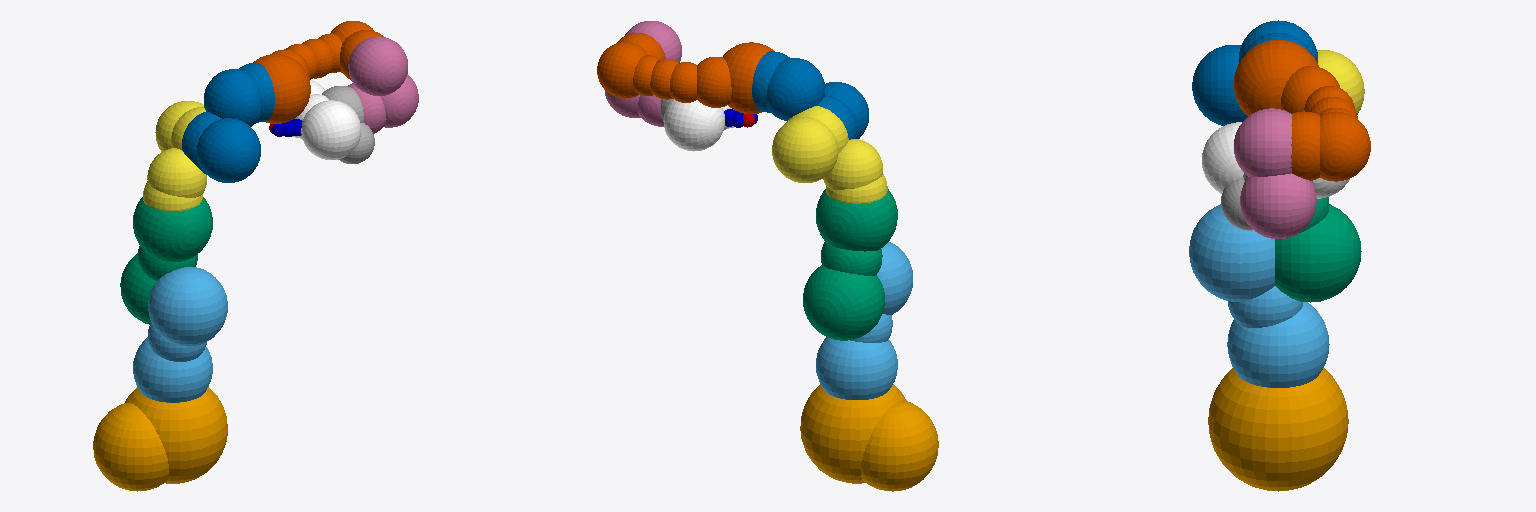
The robot description file, URDF, robot "panda":
<robot name="panda">
    <material name="Blue">
        <color rgba="0.0 0.0 0.8 1.0"/>
    </material>
    <material name="Green">
        <color rgba="0.0 0.8 0.0 1.0"/>
    </material>
    <material name="Grey">
        <color rgba="0.7 0.7 0.7 1.0"/>
    </material>
    <material name="Grey2">
        <color rgba="0.9 0.9 0.9 1.0"/>
    </material>
    <material name="Red">
        <color rgba="0.8 0.0 0.0 1.0"/>
    </material>
    <material name="White">
        <color rgba="1.0 1.0 1.0 1.0"/>
    </material>
    <material name="Black">
        <color rgba="0.1 0.1 0.1 1.0"/>
    </material>
    <material name="LightGrey">
        <color rgba="0.6 0.6 0.6 1.0"/>
    </material>
  <link name="panda_link0">
    <inertial>
      <mass value="3.06"/>
      <origin xyz="0.0 0.0 0.0" rpy="0.0 -0.0 0.0"/>
      <inertia ixx="0.3" iyy="0.3" izz="0.3" ixy="0.0" ixz="0.0" iyz="0.0"/>
    </inertial>
    <visual name="visual">
      <origin xyz="0.0 0.0 0.0" rpy="0.0 -0.0 0.0"/>
      <geometry>
        <mesh filename="package://franka/meshes/visual/link0.dae" scale="1.0 1.0 1.0"/>
      </geometry>
      <material name="">
        <color rgba="0 0 0 1"/>
      </material>
    </visual>
    <visual name="ball_0">
      <origin xyz="-0.08 0.0 0.02" rpy="0.0 -0.0 0.0"/>
      <geometry>
        <sphere radius="0.09"/>
      </geometry>
    </visual>
    <visual name="ball_1">
      <origin xyz="0.0 0.0 0.04" rpy="0.0 -0.0 0.0"/>
      <geometry>
        <sphere radius="0.11"/>
      </geometry>
    </visual>
    <collision name="collision">
      <origin xyz="0.0 0.0 0.0" rpy="0.0 -0.0 0.0"/>
      <geometry>
        <mesh filename="package://franka/meshes/collision/link0.stl" scale="1.0 1.0 1.0"/>
      </geometry>
    </collision>
  </link>
  <link name="panda_link1">
    <inertial>
      <mass value="2.34"/>
      <origin xyz="0.0 0.0 0.0" rpy="0.0 -0.0 0.0"/>
      <inertia ixx="0.3" iyy="0.3" izz="0.3" ixy="0.0" ixz="0.0" iyz="0.0"/>
    </inertial>
    <visual name="visual">
      <origin xyz="0.0 0.0 0.0" rpy="0.0 -0.0 0.0"/>
      <geometry>
        <mesh filename="package://franka/meshes/visual/link1.dae" scale="1.0 1.0 1.0"/>
      </geometry>
      <material name="">
        <color rgba="0 0 0 1"/>
      </material>
    </visual>
    <visual name="ball_0">
      <origin xyz="0.0 -0.06 0.0" rpy="0.0 -0.0 0.0"/>
      <geometry>
        <sphere radius="0.08"/>
      </geometry>
    </visual>
    <visual name="ball_1">
      <origin xyz="0.0 -0.02 -0.08" rpy="0.0 -0.0 0.0"/>
      <geometry>
        <sphere radius="0.06"/>
      </geometry>
    </visual>
    <visual name="ball_2">
      <origin xyz="0.0 0.0 -0.16" rpy="0.0 -0.0 0.0"/>
      <geometry>
        <sphere radius="0.08"/>
      </geometry>
    </visual>
    <collision name="collision">
      <origin xyz="0.0 0.0 0.0" rpy="0.0 -0.0 0.0"/>
      <geometry>
        <mesh filename="package://franka/meshes/collision/link1.stl" scale="1.0 1.0 1.0"/>
      </geometry>
    </collision>
  </link>
  <link name="panda_link2">
    <inertial>
      <mass value="2.36"/>
      <origin xyz="0.0 0.0 0.0" rpy="0.0 -0.0 0.0"/>
      <inertia ixx="0.3" iyy="0.3" izz="0.3" ixy="0.0" ixz="0.0" iyz="0.0"/>
    </inertial>
    <visual name="visual">
      <origin xyz="0.0 0.0 0.0" rpy="0.0 -0.0 0.0"/>
      <geometry>
        <mesh filename="package://franka/meshes/visual/link2.dae" scale="1.0 1.0 1.0"/>
      </geometry>
      <material name="">
        <color rgba="0 0 0 1"/>
      </material>
    </visual>
    <visual name="ball_0">
      <origin xyz="0.0 0.0 0.05" rpy="0.0 -0.0 0.0"/>
      <geometry>
        <sphere radius="0.08"/>
      </geometry>
    </visual>
    <visual name="ball_1">
      <origin xyz="0.0 -0.08 0.02" rpy="0.0 -0.0 0.0"/>
      <geometry>
        <sphere radius="0.06"/>
      </geometry>
    </visual>
    <visual name="ball_2">
      <origin xyz="0.0 -0.16 0.0" rpy="0.0 -0.0 0.0"/>
      <geometry>
        <sphere radius="0.08"/>
      </geometry>
    </visual>
    <collision name="collision">
      <origin xyz="0.0 0.0 0.0" rpy="0.0 -0.0 0.0"/>
      <geometry>
        <mesh filename="package://franka/meshes/collision/link2.stl" scale="1.0 1.0 1.0"/>
      </geometry>
    </collision>
  </link>
  <link name="panda_link3">
    <inertial>
      <mass value="2.38"/>
      <origin xyz="0.0 0.0 0.0" rpy="0.0 -0.0 0.0"/>
      <inertia ixx="0.3" iyy="0.3" izz="0.3" ixy="0.0" ixz="0.0" iyz="0.0"/>
    </inertial>
    <visual name="visual">
      <origin xyz="0.0 0.0 0.0" rpy="0.0 -0.0 0.0"/>
      <geometry>
        <mesh filename="package://franka/meshes/visual/link3.dae" scale="1.0 1.0 1.0"/>
      </geometry>
      <material name="">
        <color rgba="0 0 0 1"/>
      </material>
    </visual>
    <visual name="ball_0">
      <origin xyz="0.0 0.0 -0.1" rpy="0.0 -0.0 0.0"/>
      <geometry>
        <sphere radius="0.06"/>
      </geometry>
    </visual>
    <visual name="ball_1">
      <origin xyz="0.01 0.0 -0.06" rpy="0.0 -0.0 0.0"/>
      <geometry>
        <sphere radius="0.06"/>
      </geometry>
    </visual>
    <visual name="ball_2">
      <origin xyz="0.08 0.02 0.0" rpy="0.0 -0.0 0.0"/>
      <geometry>
        <sphere radius="0.065"/>
      </geometry>
    </visual>
    <visual name="ball_3">
      <origin xyz="0.075 0.07 -0.005" rpy="0.0 -0.0 0.0"/>
      <geometry>
        <sphere radius="0.065"/>
      </geometry>
    </visual>
    <collision name="collision">
      <origin xyz="0.0 0.0 0.0" rpy="0.0 -0.0 0.0"/>
      <geometry>
        <mesh filename="package://franka/meshes/collision/link3.stl" scale="1.0 1.0 1.0"/>
      </geometry>
    </collision>
  </link>
  <link name="panda_link4">
    <inertial>
      <mass value="2.43"/>
      <origin xyz="0.0 0.0 0.0" rpy="0.0 -0.0 0.0"/>
      <inertia ixx="0.3" iyy="0.3" izz="0.3" ixy="0.0" ixz="0.0" iyz="0.0"/>
    </inertial>
    <visual name="visual">
      <origin xyz="0.0 0.0 0.0" rpy="0.0 -0.0 0.0"/>
      <geometry>
        <mesh filename="package://franka/meshes/visual/link4.dae" scale="1.0 1.0 1.0"/>
      </geometry>
      <material name="">
        <color rgba="0 0 0 1"/>
      </material>
    </visual>
    <visual name="ball_0">
      <origin xyz="-0.085 0.11 0.0" rpy="0.0 -0.0 0.0"/>
      <geometry>
        <sphere radius="0.06"/>
      </geometry>
    </visual>
    <visual name="ball_1">
      <origin xyz="-0.08 0.06 0.0" rpy="0.0 -0.0 0.0"/>
      <geometry>
        <sphere radius="0.0625"/>
      </geometry>
    </visual>
    <visual name="ball_2">
      <origin xyz="-0.005 0.0 0.015" rpy="0.0 -0.0 0.0"/>
      <geometry>
        <sphere radius="0.065"/>
      </geometry>
    </visual>
    <visual name="ball_3">
      <origin xyz="-0.01 0.005 0.07" rpy="0.0 -0.0 0.0"/>
      <geometry>
        <sphere radius="0.065"/>
      </geometry>
    </visual>
    <collision name="collision">
      <origin xyz="0.0 0.0 0.0" rpy="0.0 -0.0 0.0"/>
      <geometry>
        <mesh filename="package://franka/meshes/collision/link4.stl" scale="1.0 1.0 1.0"/>
      </geometry>
    </collision>
  </link>
  <link name="panda_link5">
    <inertial>
      <mass value="3.5"/>
      <origin xyz="0.0 0.0 0.0" rpy="0.0 -0.0 0.0"/>
      <inertia ixx="0.3" iyy="0.3" izz="0.3" ixy="0.0" ixz="0.0" iyz="0.0"/>
    </inertial>
    <visual name="visual">
      <origin xyz="0.0 0.0 0.0" rpy="0.0 -0.0 0.0"/>
      <geometry>
        <mesh filename="package://franka/meshes/visual/link5.dae" scale="1.0 1.0 1.0"/>
      </geometry>
      <material name="">
        <color rgba="0 0 0 1"/>
      </material>
    </visual>
    <visual name="ball_0">
      <origin xyz="0.0 0.04 0.0" rpy="0.0 -0.0 0.0"/>
      <geometry>
        <sphere radius="0.055"/>
      </geometry>
    </visual>
    <visual name="ball_1">
      <origin xyz="0.0 0.09 0.0" rpy="0.0 -0.0 0.0"/>
      <geometry>
        <sphere radius="0.055"/>
      </geometry>
    </visual>
    <visual name="ball_2">
      <origin xyz="0.0 0.09 -0.05" rpy="0.0 -0.0 0.0"/>
      <geometry>
        <sphere radius="0.04"/>
      </geometry>
    </visual>
    <visual name="ball_3">
      <origin xyz="0.0 0.085 -0.09" rpy="0.0 -0.0 0.0"/>
      <geometry>
        <sphere radius="0.04"/>
      </geometry>
    </visual>
    <visual name="ball_4">
      <origin xyz="0.0 0.08 -0.13" rpy="0.0 -0.0 0.0"/>
      <geometry>
        <sphere radius="0.04"/>
      </geometry>
    </visual>
    <visual name="ball_5">
      <origin xyz="0.0 0.05 -0.18" rpy="0.0 -0.0 0.0"/>
      <geometry>
        <sphere radius="0.05"/>
      </geometry>
    </visual>
    <visual name="ball_6">
      <origin xyz="0.0 0.0 -0.23" rpy="0.0 -0.0 0.0"/>
      <geometry>
        <sphere radius="0.07"/>
      </geometry>
    </visual>
    <collision name="collision">
      <origin xyz="0.0 0.0 0.0" rpy="0.0 -0.0 0.0"/>
      <geometry>
        <mesh filename="package://franka/meshes/collision/link5.stl" scale="1.0 1.0 1.0"/>
      </geometry>
    </collision>
  </link>
  <link name="panda_link6">
    <inertial>
      <mass value="1.47"/>
      <origin xyz="0.0 0.0 0.0" rpy="0.0 -0.0 0.0"/>
      <inertia ixx="0.3" iyy="0.3" izz="0.3" ixy="0.0" ixz="0.0" iyz="0.0"/>
    </inertial>
    <visual name="visual">
      <origin xyz="0.0 0.0 0.0" rpy="0.0 -0.0 0.0"/>
      <geometry>
        <mesh filename="package://franka/meshes/visual/link6.dae" scale="1.0 1.0 1.0"/>
      </geometry>
      <material name="">
        <color rgba="0 0 0 1"/>
      </material>
    </visual>
    <visual name="ball_0">
      <origin xyz="0.0 0.0 0.01" rpy="0.0 -0.0 0.0"/>
      <geometry>
        <sphere radius="0.06"/>
      </geometry>
    </visual>
    <visual name="ball_1">
      <origin xyz="0.08 0.03 0.0" rpy="0.0 -0.0 0.0"/>
      <geometry>
        <sphere radius="0.06"/>
      </geometry>
    </visual>
    <visual name="ball_2">
      <origin xyz="0.09 -0.03 0.0" rpy="0.0 -0.0 0.0"/>
      <geometry>
        <sphere radius="0.055"/>
      </geometry>
    </visual>
    <collision name="collision">
      <origin xyz="0.0 0.0 0.0" rpy="0.0 -0.0 0.0"/>
      <geometry>
        <mesh filename="package://franka/meshes/collision/link6.stl" scale="1.0 1.0 1.0"/>
      </geometry>
    </collision>
  </link>
  <link name="panda_link7">
    <inertial>
      <mass value="0.45"/>
      <origin xyz="0.0 0.0 0.0" rpy="0.0 -0.0 0.0"/>
      <inertia ixx="0.3" iyy="0.3" izz="0.3" ixy="0.0" ixz="0.0" iyz="0.0"/>
    </inertial>
    <visual name="visual">
      <origin xyz="0.0 0.0 0.0" rpy="0.0 -0.0 0.0"/>
      <geometry>
        <mesh filename="package://franka/meshes/visual/link7.dae" scale="1.0 1.0 1.0"/>
      </geometry>
      <material name="">
        <color rgba="0 0 0 1"/>
      </material>
    </visual>
    <visual name="ball_0">
      <origin xyz="0.0 0.0 0.08" rpy="0.0 -0.0 0.0"/>
      <geometry>
        <sphere radius="0.055"/>
      </geometry>
    </visual>
    <visual name="ball_1">
      <origin xyz="0.045 0.045 0.08" rpy="0.0 -0.0 0.0"/>
      <geometry>
        <sphere radius="0.045"/>
      </geometry>
    </visual>
    <visual name="ball_2">
      <origin xyz="0.0 -0.005 0.225" rpy="0.0 -0.0 0.0"/>
      <geometry>
        <sphere radius="0.015"/>
      </geometry>
      <material name="Red"/>
    </visual>
    <visual name="ball_3">
      <origin xyz="0.0 -0.015 0.21" rpy="0.0 -0.0 0.0"/>
      <geometry>
        <sphere radius="0.015"/>
      </geometry>
      <material name="Blue"/>
    </visual>
    <visual name="ball_4">
      <origin xyz="0.0 -0.015 0.19" rpy="0.0 -0.0 0.0"/>
      <geometry>
        <sphere radius="0.0175"/>
      </geometry>
      <material name="Blue"/>
    </visual>
    <visual name="ball_5">
      <origin xyz="0.0 0.005 0.225" rpy="0.0 -0.0 0.0"/>
      <geometry>
        <sphere radius="0.015"/>
      </geometry>
      <material name="Blue"/>
    </visual>
    <visual name="ball_6">
      <origin xyz="0.0 0.015 0.21" rpy="0.0 -0.0 0.0"/>
      <geometry>
        <sphere radius="0.015"/>
      </geometry>
      <material name="Blue"/>
    </visual>
    <visual name="ball_7">
      <origin xyz="0.0 0.015 0.19" rpy="0.0 -0.0 0.0"/>
      <geometry>
        <sphere radius="0.0175"/>
      </geometry>
      <material name="Blue"/>
    </visual>
    <visual name="ball_8">
      <origin xyz="0.0 -0.06 0.137" rpy="0.0 -0.0 0.0"/>
      <geometry>
        <sphere radius="0.06"/>
      </geometry>
      <material name="White"/>
    </visual>
    <visual name="ball_9">
      <origin xyz="0.0 0.0 0.137" rpy="0.0 -0.0 0.0"/>
      <geometry>
        <sphere radius="0.05"/>
      </geometry>
      <material name="White"/>
    </visual>
    <visual name="ball_10">
      <origin xyz="0.0 0.06 0.137" rpy="0.0 -0.0 0.0"/>
      <geometry>
        <sphere radius="0.06"/>
      </geometry>
      <material name="White"/>
    </visual>
    <collision name="collision">
      <origin xyz="0.0 0.0 0.0" rpy="0.0 -0.0 0.0"/>
      <geometry>
        <mesh filename="package://franka/meshes/collision/link7.stl" scale="1.0 1.0 1.0"/>
      </geometry>
    </collision>
  </link>
  <link name="panda_link8">
    <inertial>
      <mass value="1e-05"/>
      <origin xyz="0.0 0.0 0.0" rpy="0.0 -0.0 0.0"/>
      <inertia ixx="0.3" iyy="0.3" izz="0.3" ixy="0.0" ixz="0.0" iyz="0.0"/>
    </inertial>
  </link>
  <link name="panda_hand">
    <inertial>
      <mass value="0.68"/>
      <origin xyz="0.0 0.0 0.0" rpy="0.0 -0.0 0.0"/>
      <inertia ixx="0.1" iyy="0.1" izz="0.1" ixy="0.0" ixz="0.0" iyz="0.0"/>
    </inertial>
    <visual name="visual">
      <origin xyz="0.0 0.0 0.0" rpy="0.0 -0.0 0.0"/>
      <geometry>
        <mesh filename="package://franka/meshes/visual/hand.dae" scale="1.0 1.0 1.0"/>
      </geometry>
      <material name="">
        <color rgba="0 0 0 1"/>
      </material>
    </visual>
    
    <collision name="collision">
      <origin xyz="0.0 0.0 0.0" rpy="0.0 -0.0 0.0"/>
      <geometry>
        <mesh filename="package://franka/meshes/collision/hand.stl" scale="1.0 1.0 1.0"/>
      </geometry>
    </collision>
  </link>
  <link name="panda_leftfinger">
    <inertial>
      <mass value="0.01"/>
      <origin xyz="0.0 0.0 0.0" rpy="0.0 -0.0 0.0"/>
      <inertia ixx="0.1" iyy="0.1" izz="0.1" ixy="0.0" ixz="0.0" iyz="0.0"/>
    </inertial>
    <visual name="visual">
      <origin xyz="0.0 0.0 0.0" rpy="0.0 -0.0 0.0"/>
      <geometry>
        <mesh filename="package://franka/meshes/visual/finger.dae" scale="1.0 1.0 1.0"/>
      </geometry>
      <material name="">
        <color rgba="0 0 0 1"/>
      </material>
    </visual>
    <collision name="collision">
      <origin xyz="0.0 0.0 0.0" rpy="0.0 -0.0 0.0"/>
      <geometry>
        <mesh filename="package://franka/meshes/collision/finger.stl" scale="1.0 1.0 1.0"/>
      </geometry>
    </collision>
  </link>
  <link name="panda_rightfinger">
    <inertial>
      <mass value="0.01"/>
      <origin xyz="0.0 0.0 0.0" rpy="0.0 -0.0 0.0"/>
      <inertia ixx="0.1" iyy="0.1" izz="0.1" ixy="0.0" ixz="0.0" iyz="0.0"/>
    </inertial>
    <visual name="visual">
      <origin xyz="0.0 0.0 0.0" rpy="0.0 -0.0 -3.1415926535895866"/>
      <geometry>
        <mesh filename="package://franka/meshes/visual/finger.dae" scale="1.0 1.0 1.0"/>
      </geometry>
      <material name="">
        <color rgba="0 0 0 1"/>
      </material>
    </visual>
    
    <collision name="collision">
      <origin xyz="0.0 0.0 0.0" rpy="0.0 -0.0 -3.1415926535895866"/>
      <geometry>
        <mesh filename="package://franka/meshes/collision/finger.stl" scale="1.0 1.0 1.0"/>
      </geometry>
    </collision>
  </link>
  <joint name="panda_joint1" type="revolute">
    <parent link="panda_link0"/>
    <child link="panda_link1"/>
    <limit lower="-2.8973" upper="2.8973" effort="87.0" velocity="2.175"/>
    <axis xyz="0.0 0.0 1.0"/>
    <dynamics damping="1.0" friction="0.0"/>
    <origin xyz="0.0 0.0 0.333" rpy="0.0 -0.0 0.0"/>
  </joint>
  <joint name="panda_joint2" type="revolute">
    <parent link="panda_link1"/>
    <child link="panda_link2"/>
    <limit lower="-1.7628" upper="1.7628" effort="87.0" velocity="2.175"/>
    <axis xyz="0.0 0.0 1.0"/>
    <dynamics damping="1.0" friction="0.0"/>
    <origin xyz="0.0 0.0 0.0" rpy="-1.57079632679 0.0 0.0"/>
  </joint>
  <joint name="panda_joint3" type="revolute">
    <parent link="panda_link2"/>
    <child link="panda_link3"/>
    <limit lower="-2.8973" upper="2.8973" effort="87.0" velocity="2.175"/>
    <axis xyz="0.0 0.0 1.0"/>
    <dynamics damping="1.0" friction="0.0"/>
    <origin xyz="0.0 -0.31600000000000006 -3.418232909935797e-28" rpy="1.57079632679 -0.0 0.0"/>
  </joint>
  <joint name="panda_joint4" type="revolute">
    <parent link="panda_link3"/>
    <child link="panda_link4"/>
    <limit lower="-3.0718" upper="-0.0698" effort="87.0" velocity="2.175"/>
    <axis xyz="0.0 0.0 1.0"/>
    <dynamics damping="1.0" friction="0.0"/>
    <origin xyz="0.0825 0.0 0.0" rpy="1.57079632679 -0.0 0.0"/>
  </joint>
  <joint name="panda_joint5" type="revolute">
    <parent link="panda_link4"/>
    <child link="panda_link5"/>
    <limit lower="-2.8973" upper="2.8973" effort="12.0" velocity="2.61"/>
    <axis xyz="0.0 0.0 1.0"/>
    <dynamics damping="1.0" friction="0.0"/>
    <origin xyz="-0.0825 0.38400000000000023 1.0846837446788912e-29" rpy="-1.57079632679 0.0 0.0"/>
  </joint>
  <joint name="panda_joint6" type="revolute">
    <parent link="panda_link5"/>
    <child link="panda_link6"/>
    <limit lower="-0.0175" upper="3.7525" effort="12.0" velocity="2.61"/>
    <axis xyz="0.0 0.0 1.0"/>
    <dynamics damping="1.0" friction="0.0"/>
    <origin xyz="0.0 0.0 0.0" rpy="1.57079632679 -0.0 0.0"/>
  </joint>
  <joint name="panda_joint7" type="revolute">
    <parent link="panda_link6"/>
    <child link="panda_link7"/>
    <limit lower="-2.8973" upper="2.8973" effort="12.0" velocity="2.61"/>
    <axis xyz="0.0 0.0 1.0"/>
    <dynamics damping="1.0" friction="0.0"/>
    <origin xyz="0.088 0.0 0.0" rpy="1.57079632679 -0.0 0.0"/>
  </joint>
  <joint name="panda_joint8" type="fixed">
    <parent link="panda_link7"/>
    <child link="panda_link8"/>
    <limit lower="0" upper="0" effort="0" velocity="0"/>
    <origin xyz="0.0 4.845297921863539e-28 0.10700000000000003" rpy="0.0 -0.0 0.0"/>
  </joint>
  <joint name="panda_hand_joint" type="fixed">
    <parent link="panda_link8"/>
    <child link="panda_hand"/>
    <limit lower="0" upper="0" effort="0" velocity="0"/>
    <origin xyz="0.0 0.0 0.0" rpy="2.8683722064215544e-12 6.924822375381442e-12 0.0"/>
  </joint>
  <joint name="panda_finger_joint1" type="prismatic">
    <parent link="panda_hand"/>
    <child link="panda_leftfinger"/>
    <limit lower="0.0" upper="0.04" effort="10000.0" velocity="0.1"/>
    <axis xyz="0.0 1.0 0.0"/>
    <dynamics damping="0.0" friction="0.0"/>
    <origin xyz="4.92356258589313e-19 4.923562586112739e-19 0.058400000000000035" rpy="4.484155085839416e-44 8.077935669463163e-28 1.1102230246251568e-16"/>
  </joint>
  <joint name="panda_finger_joint2" type="prismatic">
    <parent link="panda_hand"/>
    <child link="panda_rightfinger"/>
    <limit lower="0.0" upper="0.04" effort="10000.0" velocity="0.1"/>
    <axis xyz="0.0 1.0 0.0"/>
    <dynamics damping="0.0" friction="0.0"/>
    <origin xyz="4.92356258589313e-19 4.923562586112739e-19 0.058400000000000035" rpy="4.484155085839416e-44 8.077935669463163e-28 1.1102230246251568e-16"/>
  </joint>
</robot>

--- Facts derived from the render (not from the file) ---
3 views of the same robot in one strip: view 1: azimuth 30°, elevation 25°; view 2: azimuth 150°, elevation 25°; view 3: azimuth 270°, elevation 25° (orthographic).
Model panda with 12 links and 11 joints (7 revolute, 2 prismatic, 2 fixed), rooted at panda_link0, posed all joints at 0 but 1 set to mid-range because 0 is outside their limits (panda_joint4 = -1.57).
Links seen in each view (by area): view 1: panda_link0, panda_link1, panda_link4, panda_link2, panda_link5, panda_link7, panda_link6, panda_link3; view 2: panda_link0, panda_link2, panda_link5, panda_link3, panda_link1, panda_link4, panda_link7, panda_link6; view 3: panda_link1, panda_link0, panda_link5, panda_link6, panda_link2, panda_link4, panda_link7, panda_link3.
Link boxes in pixels (box(x1,y1,x2,y2)): panda_link0: box(93, 387, 227, 491); panda_link1: box(133, 266, 227, 402); panda_link4: box(182, 62, 274, 182); panda_link2: box(120, 197, 212, 324); panda_link5: box(253, 21, 383, 123); panda_link7: box(269, 80, 374, 163); panda_link6: box(348, 36, 418, 133); panda_link3: box(143, 101, 206, 210); panda_link0: box(800, 384, 938, 491); panda_link2: box(803, 189, 897, 340); panda_link5: box(597, 33, 773, 113); panda_link3: box(772, 106, 887, 203); panda_link1: box(816, 242, 912, 399); panda_link4: box(752, 51, 868, 139); panda_link7: box(661, 99, 757, 151); panda_link6: box(604, 21, 681, 126); panda_link1: box(1189, 204, 1329, 387); panda_link0: box(1208, 368, 1348, 491); panda_link5: box(1234, 40, 1370, 181); panda_link6: box(1234, 108, 1316, 238); panda_link2: box(1275, 197, 1361, 302); panda_link4: box(1192, 20, 1317, 125); panda_link7: box(1202, 122, 1349, 230); panda_link3: box(1317, 50, 1364, 114).
Bounding box of the posed robot: 0.7265 × 0.285 × 0.8715 m (x, y, z).
Meshes: 10 distinct files referenced, 0 mesh visuals loaded (none loaded); not drawn: 11 (reference not matched to a file when rendering).